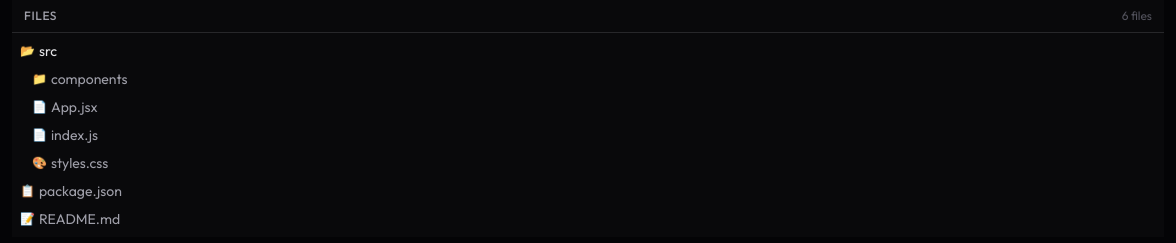
FileBrowser › directory toggling › collapses expanded directory when clicked
Check: the text "App.jsx" is shown, box [51,97,98,117]
// Click to collapse src
Click the text "src": (48, 51) [39,41,57,61]
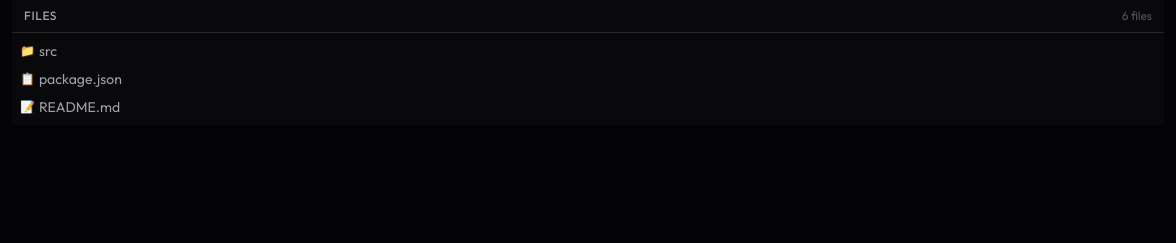
Check: the button "App.jsx" is gone
